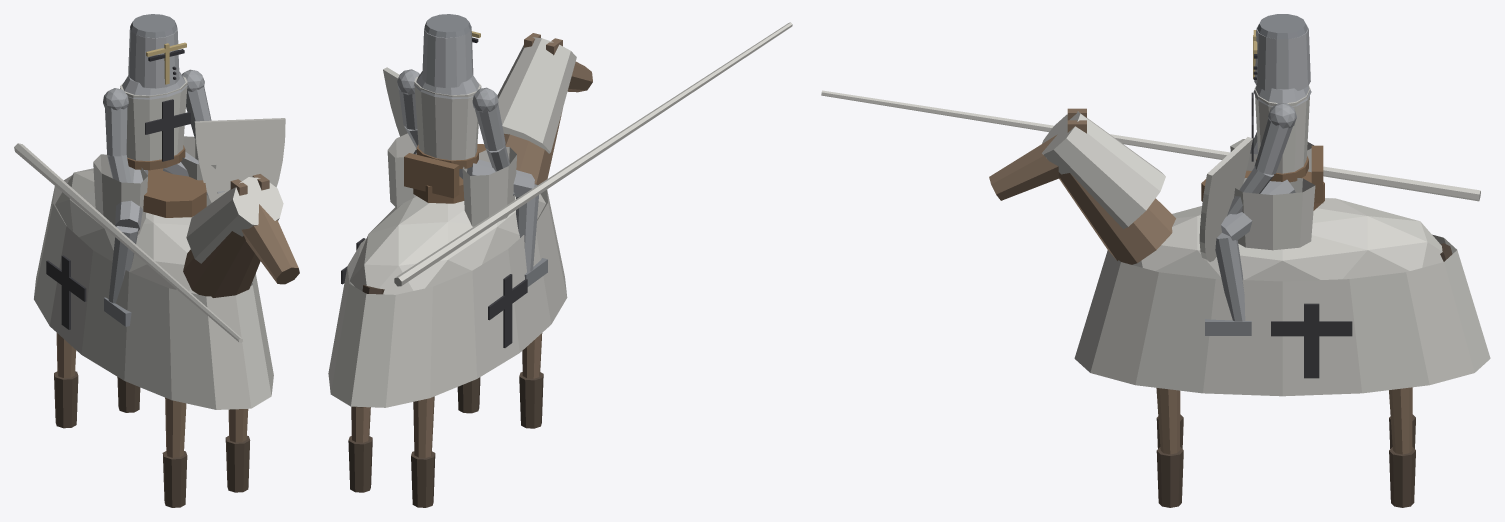
File: knight_ally.glb
The picture shows the model from 3 angles, left to right: view 1: azimuth 30°, elevation 25°; view 2: azimuth 150°, elevation 25°; view 3: azimuth 270°, elevation 25°; orthographic projection. The views are drawn at different scales.
Parts seen in each view (by area): view 1: horse, rider; view 2: horse, rider; view 3: horse, rider.
Part boxes in pixels (left/top/right/bottom): horse: left=34, top=168, right=299, bottom=507; rider: left=14, top=14, right=285, bottom=342; horse: left=328, top=33, right=592, bottom=507; rider: left=383, top=14, right=792, bottom=286; horse: left=989, top=108, right=1490, bottom=507; rider: left=821, top=14, right=1480, bottom=335.
Size of the model in its own units: 1.46 by 2.64 by 3.46.
